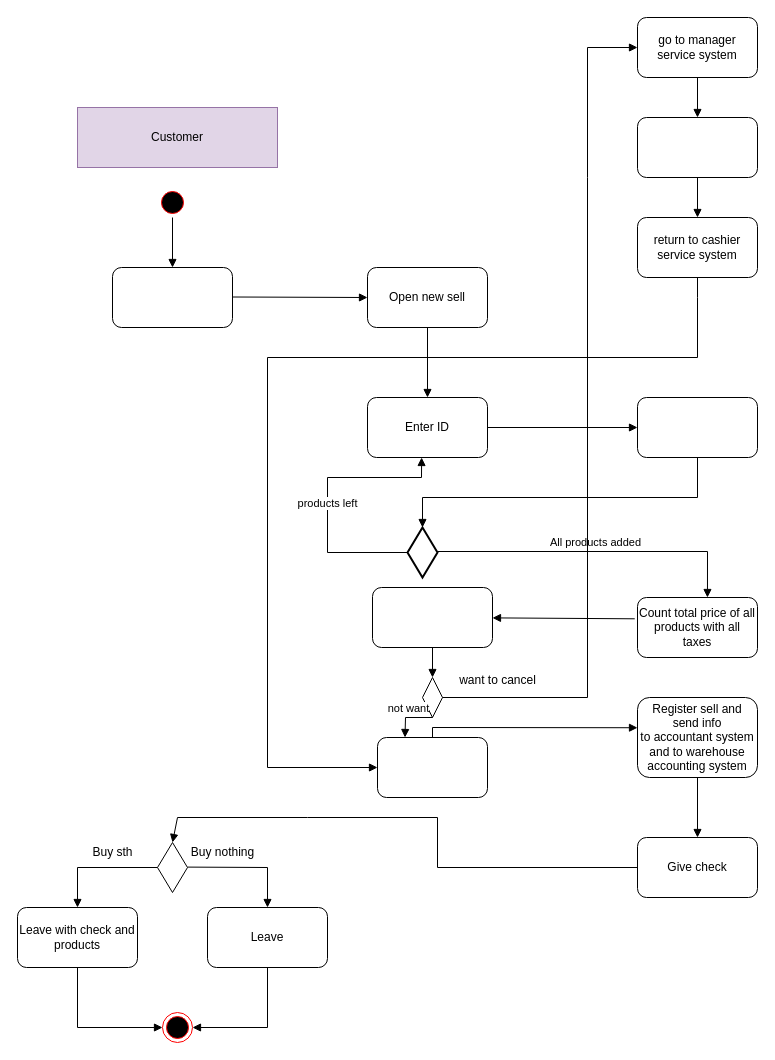
The diagram is 775 pixels wide and 1060 high, and some of its shapes have lost their labels. The shapes that lost their labels are listed below. From the top down, each one's centre as x and y in pixels, then its label:
point 697,147: cancel an operation
point 172,297: Go to cash registor with his products
point 697,427: Write product name, price and total cost
point 432,617: Ask manager if he wants to cancel an opperation
point 432,767: Say total cost to a customer and ask to buy it
